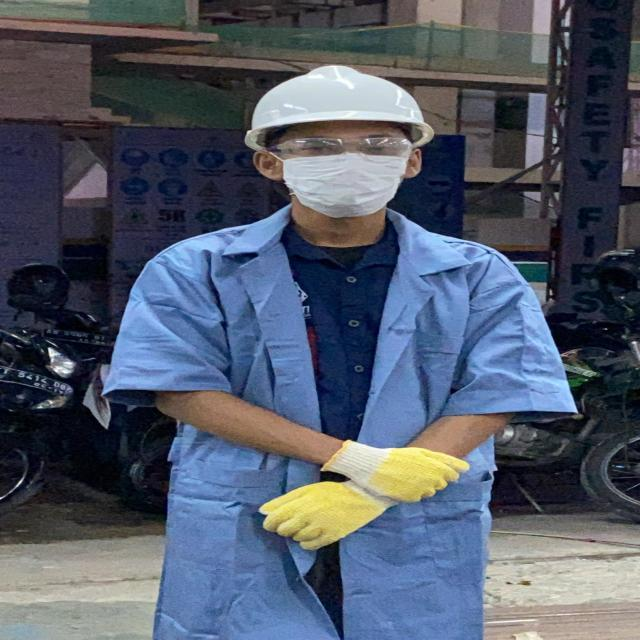glasses: (265, 134, 420, 164)
